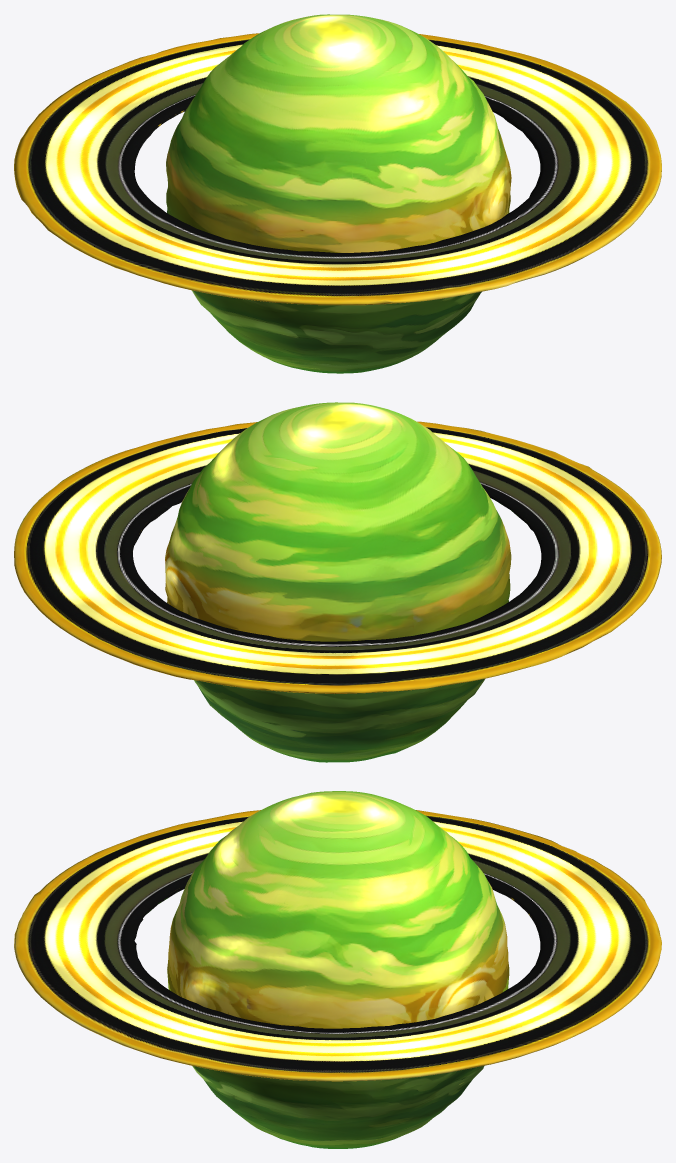
The model's file is Meshy_AI_Emerald_Saturn_0520072043_texture.glb.
3 renders of one model, top to bottom at view 1: azimuth 30°, elevation 25°; view 2: azimuth 150°, elevation 25°; view 3: azimuth 270°, elevation 25°, orthographic.
Parts seen in each view (by area): view 1: Mesh_0; view 2: Mesh_0; view 3: Mesh_0.
Part boxes in pixels (x1,y1,x2,y2): Mesh_0: (14, 14, 661, 373); Mesh_0: (14, 402, 661, 762); Mesh_0: (14, 791, 661, 1148).
Size of the model in its own units: 1.91 by 1.06 by 1.91.
1 material, 1 textured.
